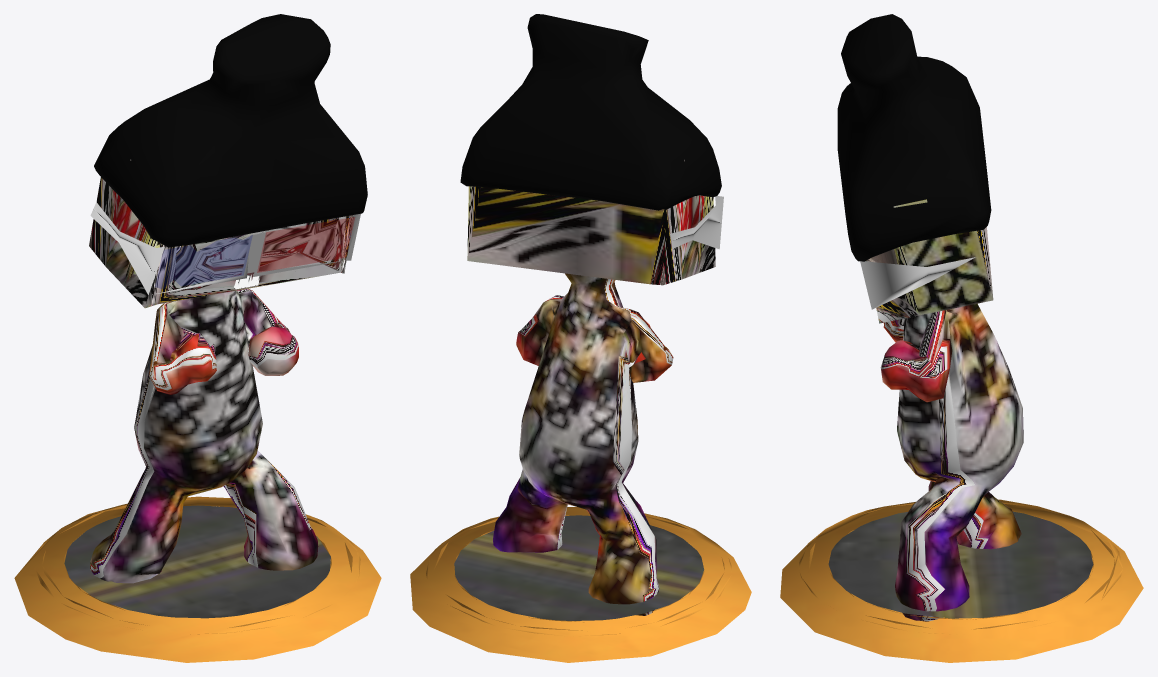
3 views of the same model, side by side, from view 1: azimuth 30°, elevation 25°; view 2: azimuth 150°, elevation 25°; view 3: azimuth 270°, elevation 25° (orthographic). The views are drawn at different scales.
Size of the model in its own units: 1.44 by 2.5 by 1.44.
9 materials, 4 textured.
